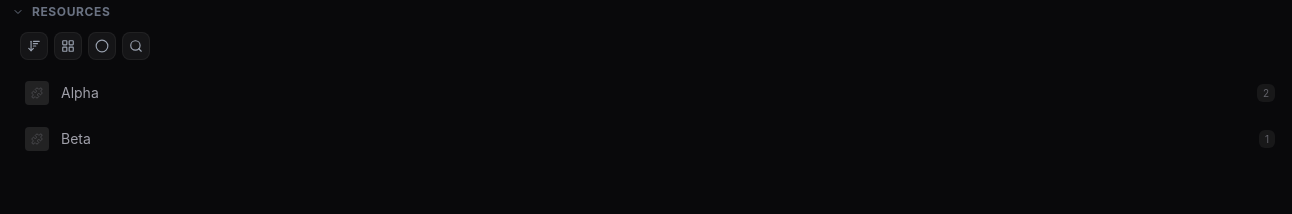
Test: ResourceSection interactions and remaining states › opens, filters, and closes search while clearing the query
The width and height of the screenshot is (1292, 214).
Click the button named "Search LoRAs" at (136, 46), box [122,32,150,60]
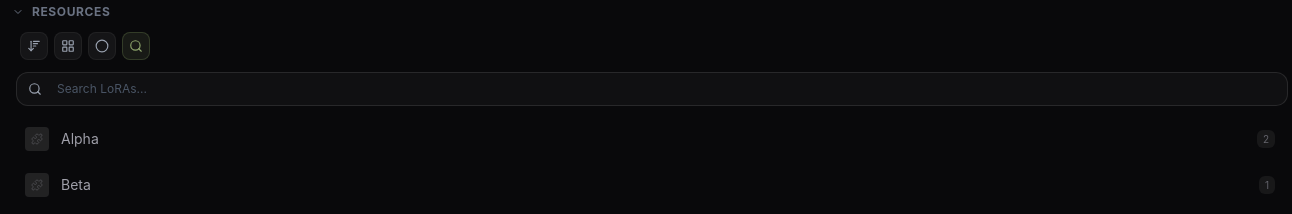
Type "alp" into the field with placeholder "Search LoRAs..." at (652, 89), box [16,72,1288,106]
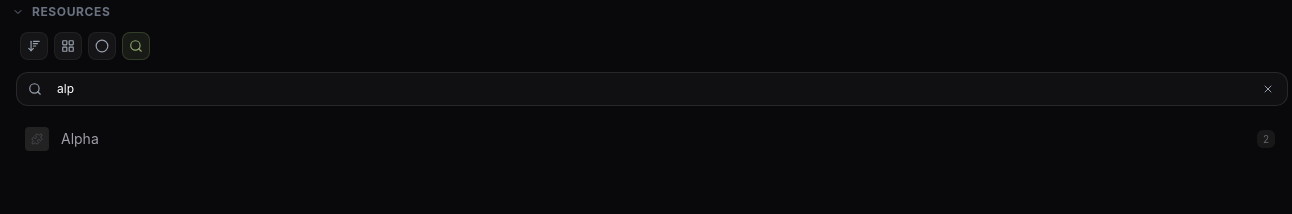
Expected: the text "Alpha" is shown, [61,129,99,149]
Now the text "Beta" is gone
Click the button named "Search LoRAs" at (136, 46), box [122,32,150,60]
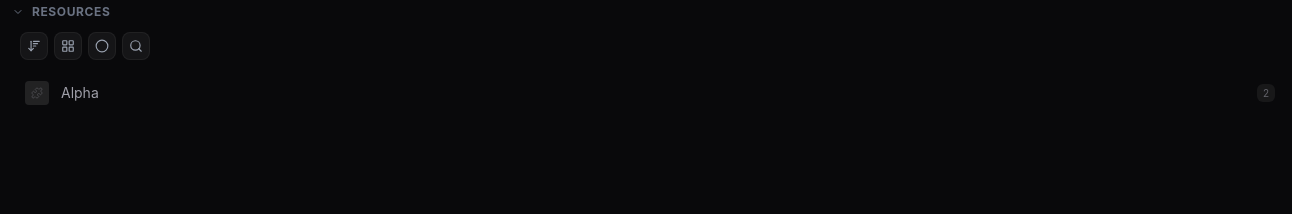
Expected: the field with placeholder "Search LoRAs..." is not shown
Click the button named "Search LoRAs" at (136, 46), box [122,32,150,60]
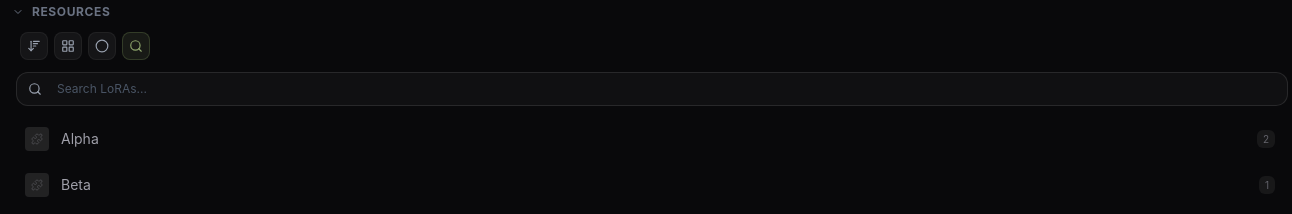
Now the field with placeholder "Search LoRAs..." is empty, box [16,72,1288,106]
Now the text "Beta" is shown, box [61,175,91,195]
